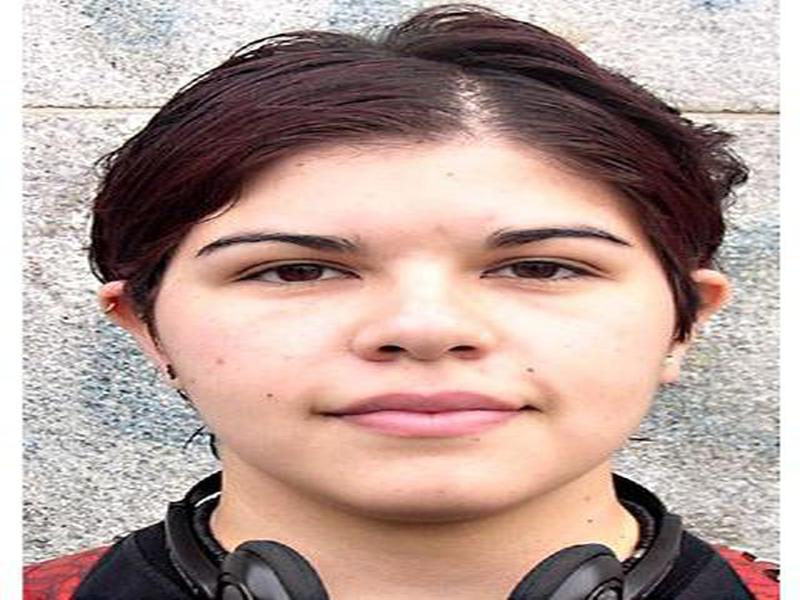without_mask: (148, 150, 672, 525)
